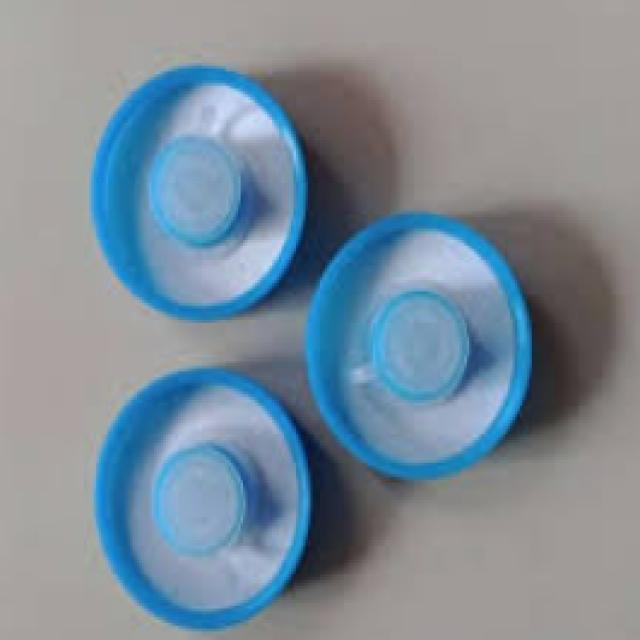Kardus: (300, 210, 550, 483), (88, 357, 322, 634), (87, 54, 306, 322)
